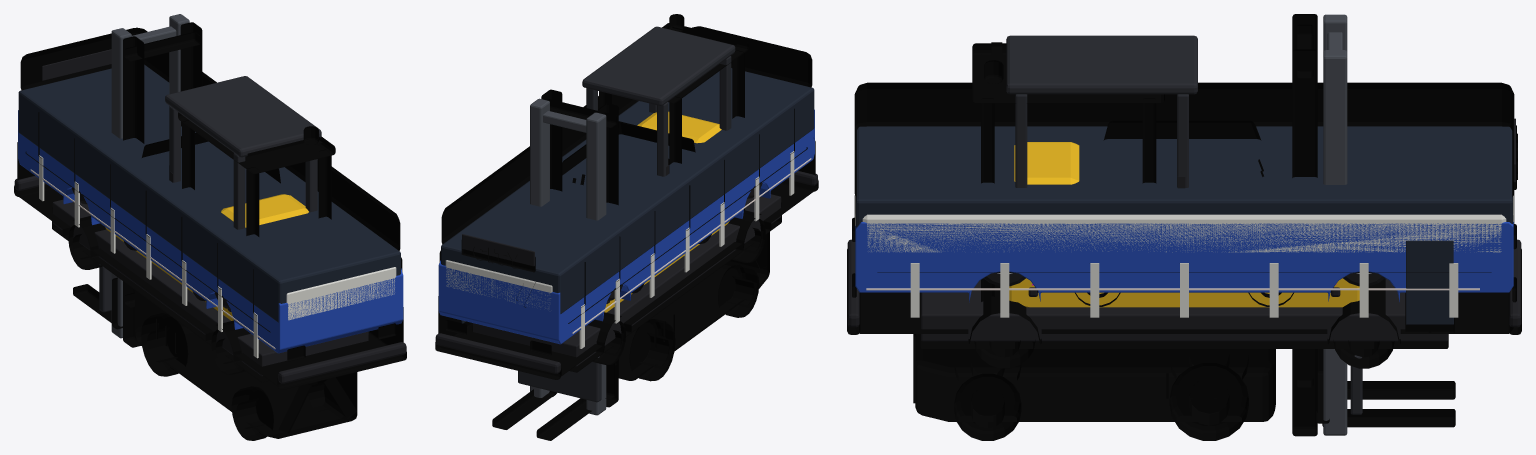
Rendered from MapVehicles.glb.
3 views of the same model, side by side, from view 1: azimuth 30°, elevation 25°; view 2: azimuth 150°, elevation 25°; view 3: azimuth 270°, elevation 25° (orthographic). The views are drawn at different scales.
Parts seen in each view (by area): view 1: City_Bus__1E2634, Factory_Forklift__000000, City_Bus__000000, City_Bus__2850BE, Factory_Forklift__26282E, City_Bus__1C1C20, City_Bus__E8E8E2, Factory_Forklift__464A52, Factory_Forklift__EBB91E, City_Car__000000, City_Bus__FFF1EA; view 2: City_Bus__1E2634, Factory_Forklift__000000, City_Bus__000000, City_Bus__2850BE, Factory_Forklift__26282E, City_Bus__1C1C20, Factory_Forklift__464A52, City_Bus__E8E8E2, Factory_Forklift__EBB91E, City_Car__000000, City_Bus__FFF1EA; view 3: City_Bus__1E2634, Factory_Forklift__000000, City_Bus__2850BE, City_Bus__000000, City_Bus__E8E8E2, City_Bus__1C1C20, Factory_Forklift__26282E, Factory_Forklift__EBB91E, Factory_Forklift__464A52, City_Car__000000, City_Bus__FFF1EA, City_Bus__18181A.
Boxes of the visible parts, bbox=[...] form: City_Bus__1E2634: bbox=[18, 64, 400, 322]; Factory_Forklift__000000: bbox=[73, 22, 357, 440]; City_Bus__000000: bbox=[14, 27, 406, 389]; City_Bus__2850BE: bbox=[18, 110, 403, 353]; Factory_Forklift__26282E: bbox=[99, 76, 321, 312]; City_Bus__1C1C20: bbox=[14, 49, 406, 383]; City_Bus__E8E8E2: bbox=[39, 155, 396, 358]; Factory_Forklift__464A52: bbox=[111, 14, 189, 338]; Factory_Forklift__EBB91E: bbox=[105, 194, 308, 320]; City_Car__000000: bbox=[142, 132, 280, 183]; City_Bus__FFF1EA: bbox=[30, 169, 275, 349]; City_Bus__1E2634: bbox=[441, 68, 814, 323]; Factory_Forklift__000000: bbox=[492, 14, 769, 440]; City_Bus__000000: bbox=[435, 26, 818, 379]; City_Bus__2850BE: bbox=[438, 109, 814, 344]; Factory_Forklift__26282E: bbox=[518, 26, 735, 402]; City_Bus__1C1C20: bbox=[435, 171, 817, 373]; Factory_Forklift__464A52: bbox=[530, 98, 606, 415]; City_Bus__E8E8E2: bbox=[445, 151, 794, 348]; Factory_Forklift__EBB91E: bbox=[604, 111, 729, 312]; City_Car__000000: bbox=[562, 121, 695, 185]; City_Bus__FFF1EA: bbox=[572, 158, 811, 333]; City_Bus__1E2634: bbox=[856, 126, 1512, 324]; Factory_Forklift__000000: bbox=[913, 14, 1455, 440]; City_Bus__2850BE: bbox=[855, 222, 1513, 302]; City_Bus__000000: bbox=[847, 82, 1521, 368]; City_Bus__E8E8E2: bbox=[855, 195, 1513, 317]; City_Bus__1C1C20: bbox=[847, 118, 1521, 341]; Factory_Forklift__26282E: bbox=[1006, 35, 1362, 414]; Factory_Forklift__EBB91E: bbox=[1009, 142, 1359, 307]; Factory_Forklift__464A52: bbox=[1323, 14, 1347, 435]; City_Car__000000: bbox=[1037, 120, 1331, 292]; City_Bus__FFF1EA: bbox=[866, 288, 1479, 290]; City_Bus__18181A: bbox=[984, 273, 1384, 286].
Size of the model in its own units: 6.16 by 14.05 by 22.55.
